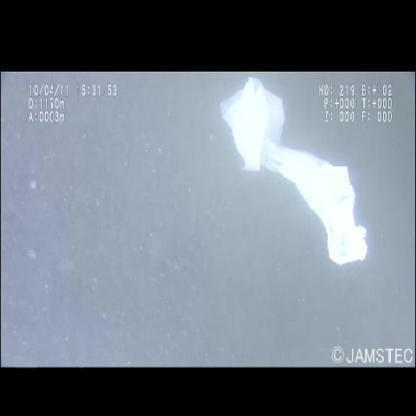Rác: (219, 79, 369, 266)
